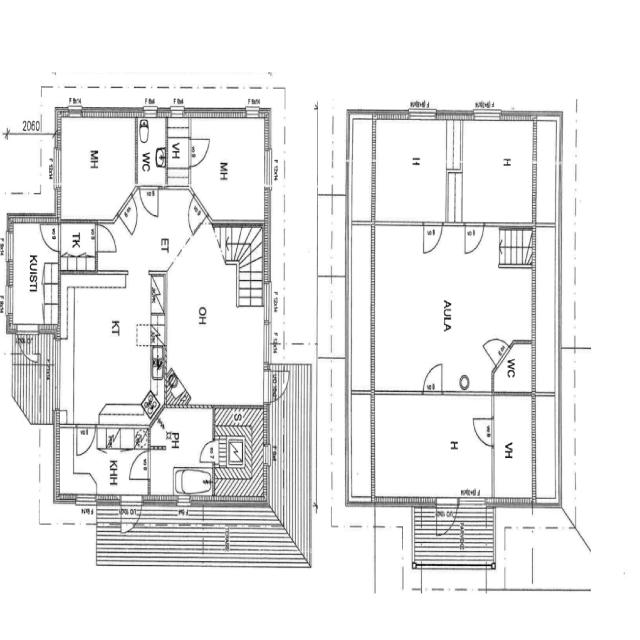door: (118, 194, 145, 235), (181, 194, 208, 234), (484, 328, 511, 368), (120, 495, 142, 537), (263, 370, 291, 402), (17, 324, 38, 365), (437, 498, 457, 537), (129, 450, 150, 479), (423, 362, 442, 393), (95, 224, 116, 252), (77, 424, 95, 455), (466, 222, 484, 253), (40, 224, 60, 251), (140, 186, 158, 216), (424, 222, 442, 252), (474, 418, 494, 445), (198, 441, 214, 461)
